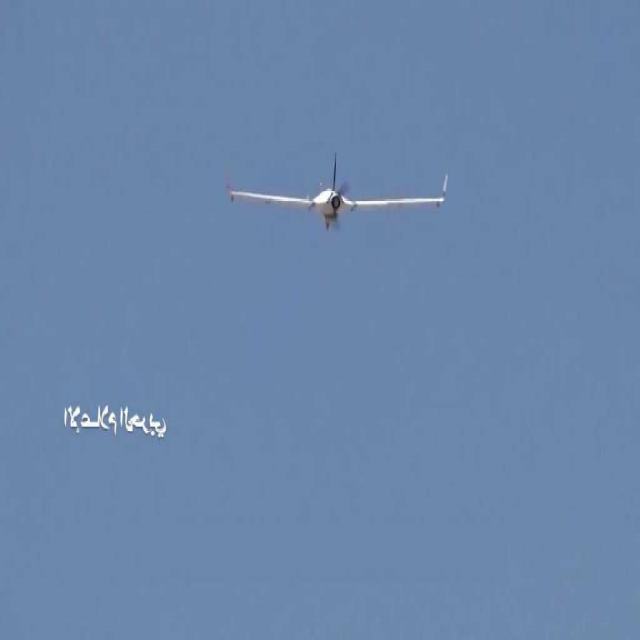UAV: (188, 164, 464, 230)
